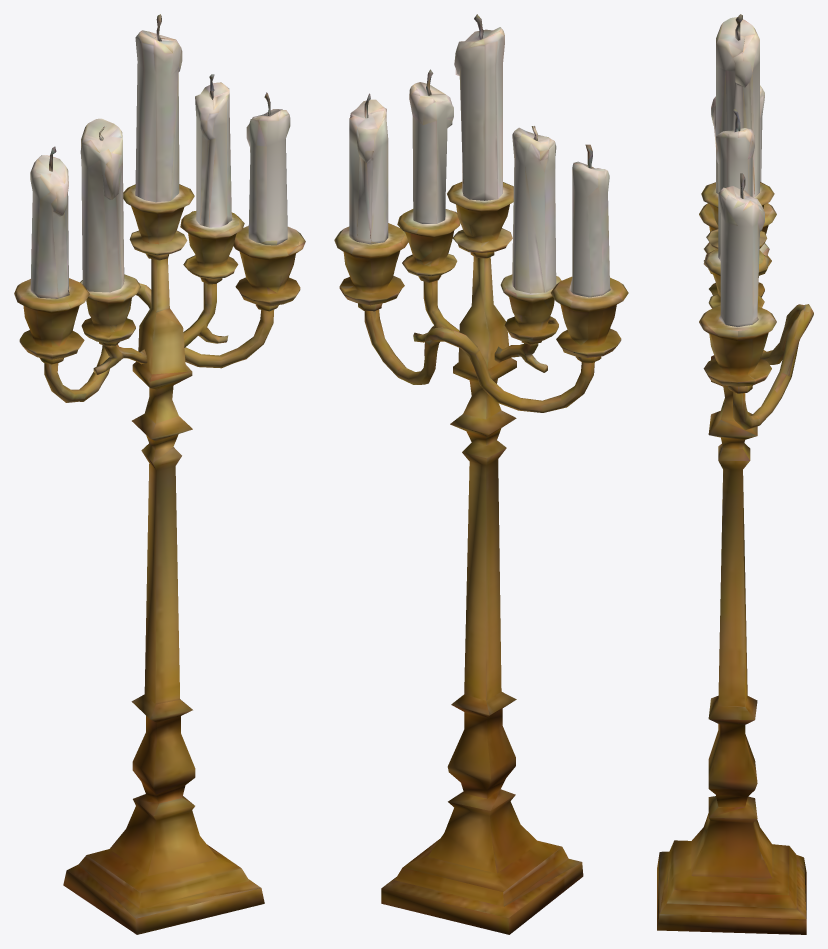
File: wyn_furn_candelabra.glb
The picture shows the model from 3 angles, left to right: view 1: azimuth 30°, elevation 25°; view 2: azimuth 150°, elevation 25°; view 3: azimuth 270°, elevation 25°; orthographic projection.
Visible parts, largest first — view 1: tripo_node_11494d8c-9296-4774-b6ea-6039ffd05cb4; view 2: tripo_node_11494d8c-9296-4774-b6ea-6039ffd05cb4; view 3: tripo_node_11494d8c-9296-4774-b6ea-6039ffd05cb4.
Boxes of the visible parts, x1,y1,x2,y2 form: tripo_node_11494d8c-9296-4774-b6ea-6039ffd05cb4: [14, 14, 305, 934]; tripo_node_11494d8c-9296-4774-b6ea-6039ffd05cb4: [334, 14, 628, 934]; tripo_node_11494d8c-9296-4774-b6ea-6039ffd05cb4: [657, 14, 813, 934].
Bounding box in the file's own units: 0.202 × 0.6 × 0.0957.
1 material, 1 textured.
